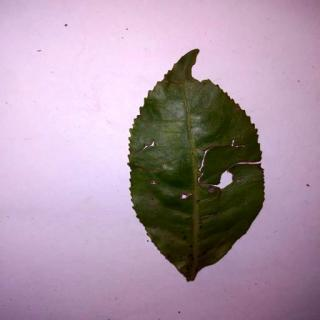Bird Eye Spot: (128, 50, 267, 284)
